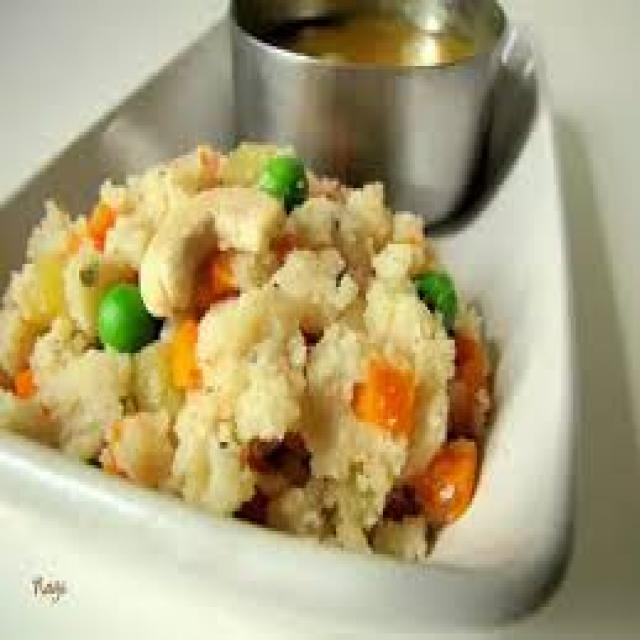UPMA: (0, 145, 492, 551)
